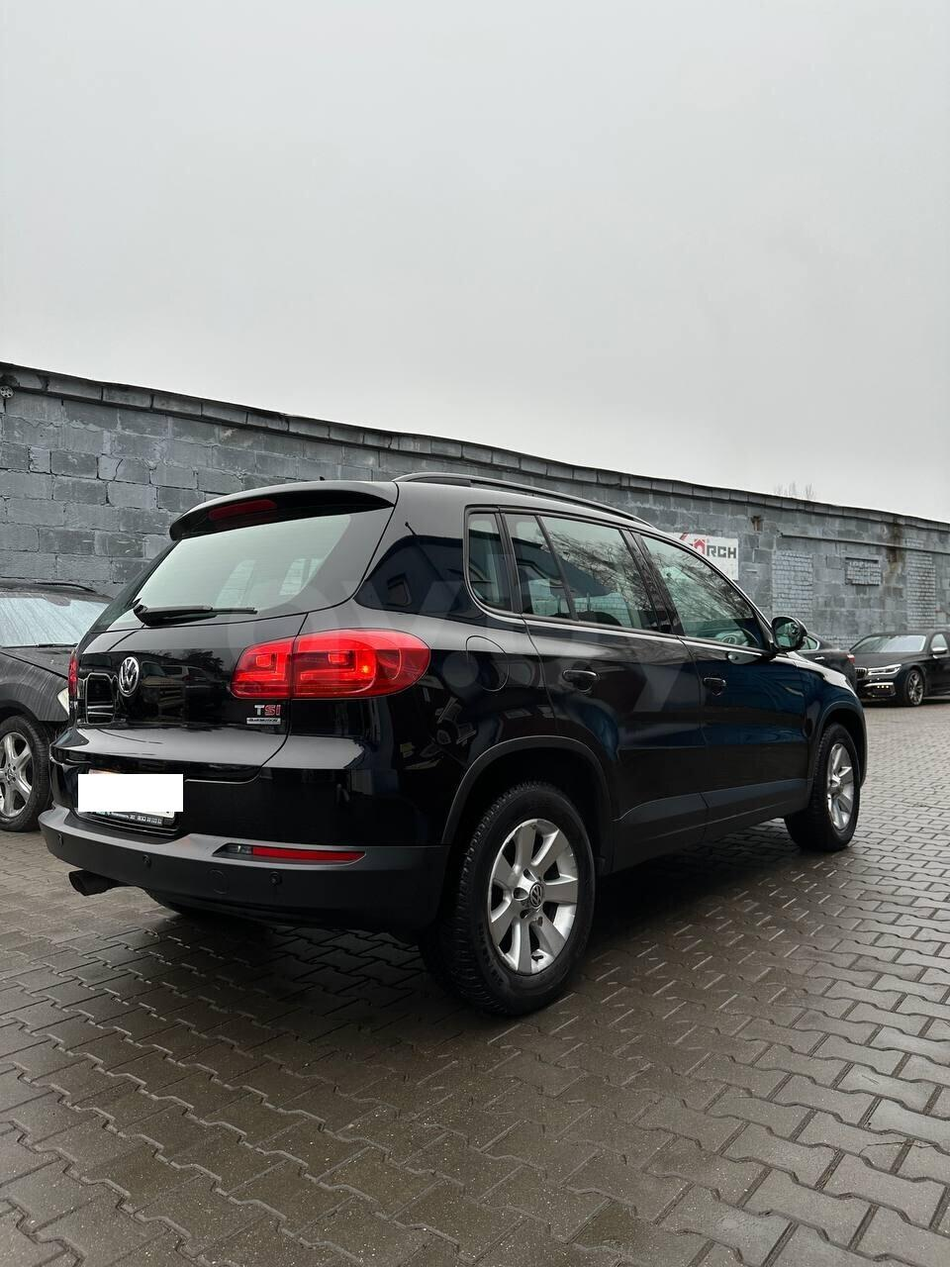Tiguan_2011-2018: (40, 473, 879, 1005)
